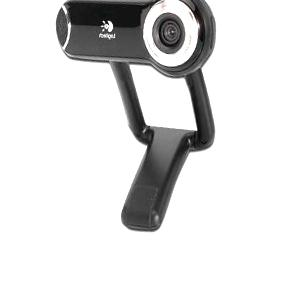webcam: (51, 1, 224, 87)
